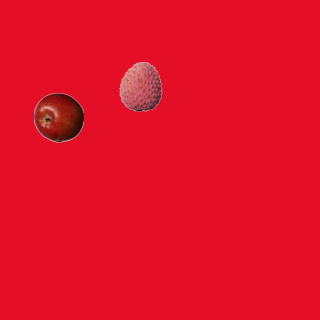Apple Braeburn: (33, 92, 83, 142)
Lychee: (115, 61, 165, 111)
